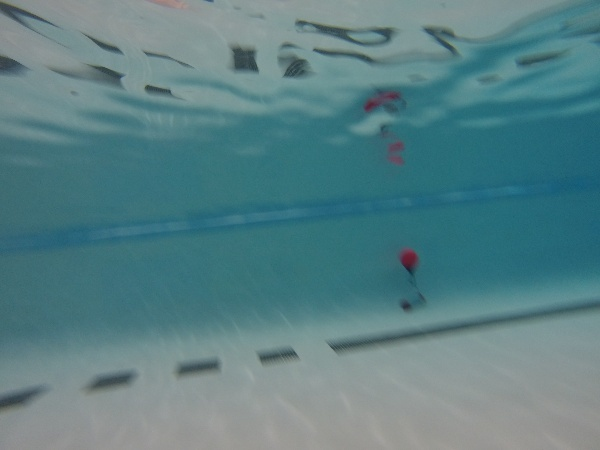buoy_red: (396, 245, 422, 276)
